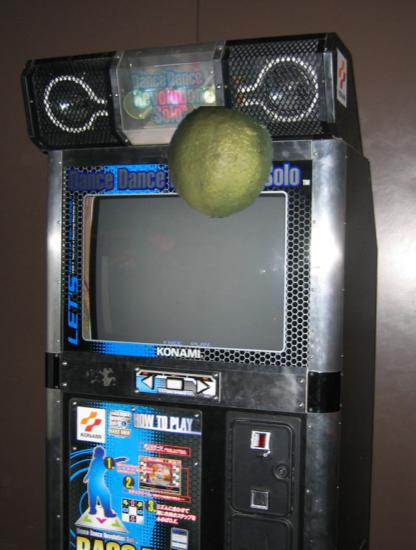Limes: (164, 106, 277, 219)
